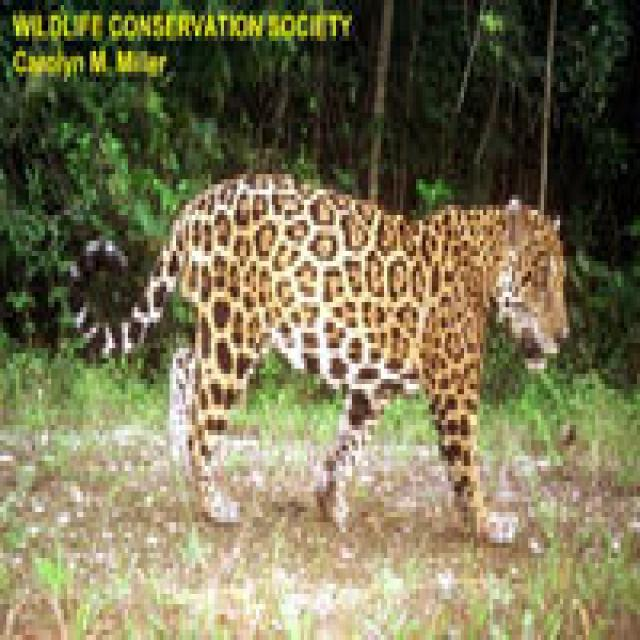Leopard: (41, 158, 572, 532)
